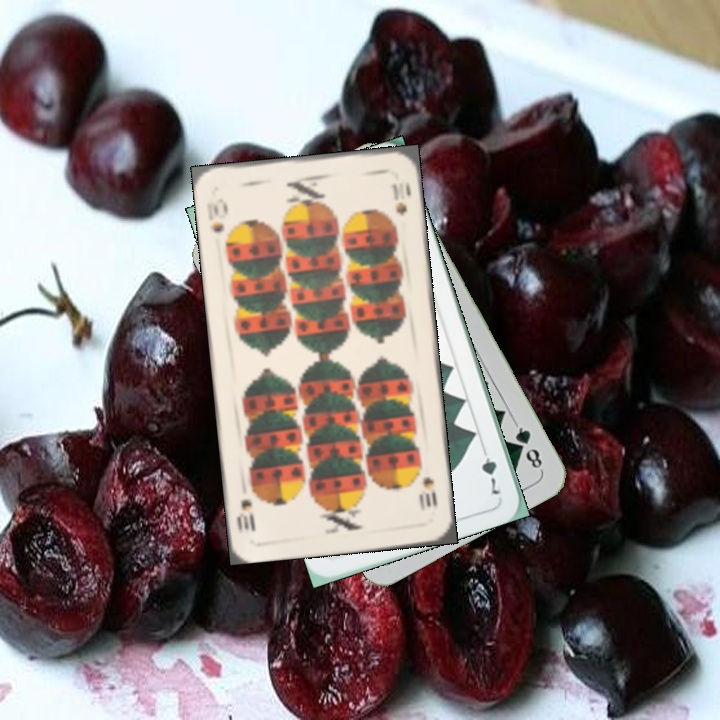G7: (477, 440, 503, 498)
G8: (510, 419, 545, 474)
S10: (202, 194, 230, 235), (417, 473, 440, 514)
